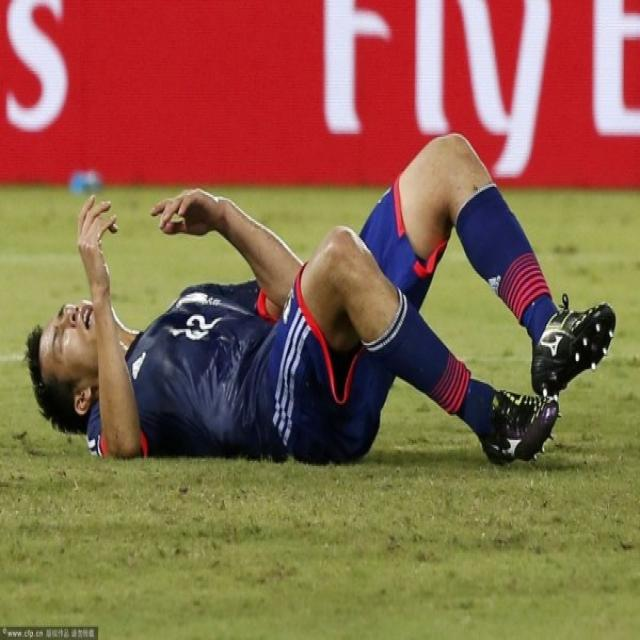fall: (25, 158, 579, 467)
